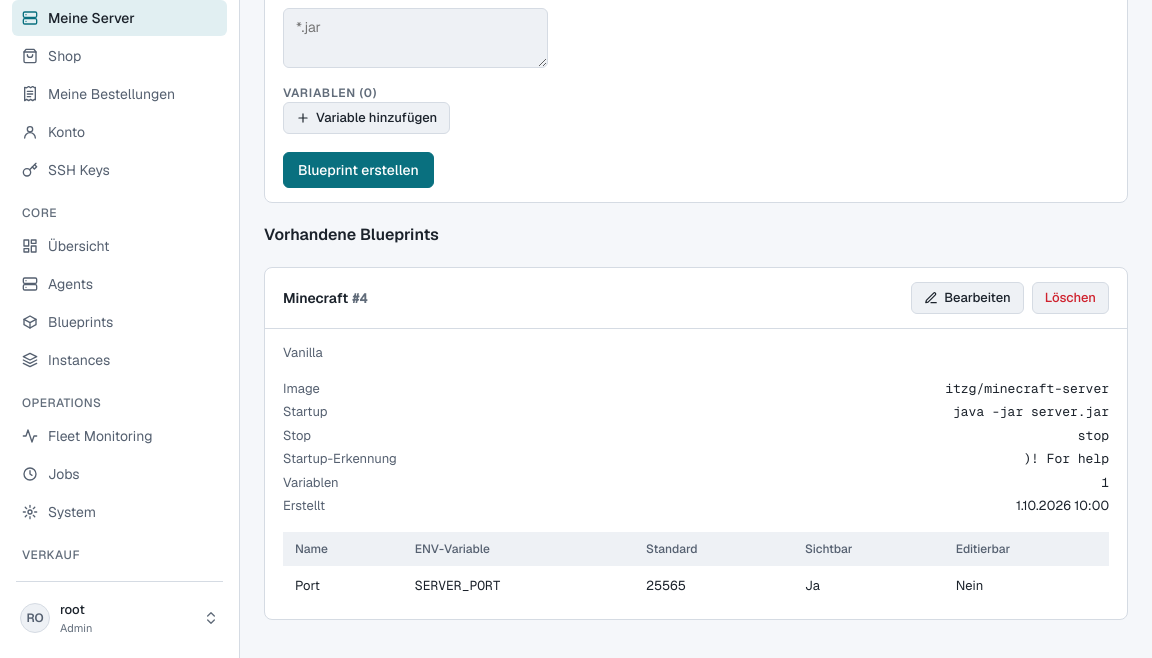
Test case: AdminBlueprintsPage › loescht nach Bestaetigung und zeigt Backend-Fehler als Alert
The width and height of the screenshot is (1152, 658).
(page scrolled)
Click the button "Löschen".
click(1070, 298)  # box [1032,282,1109,314]
(page scrolled)
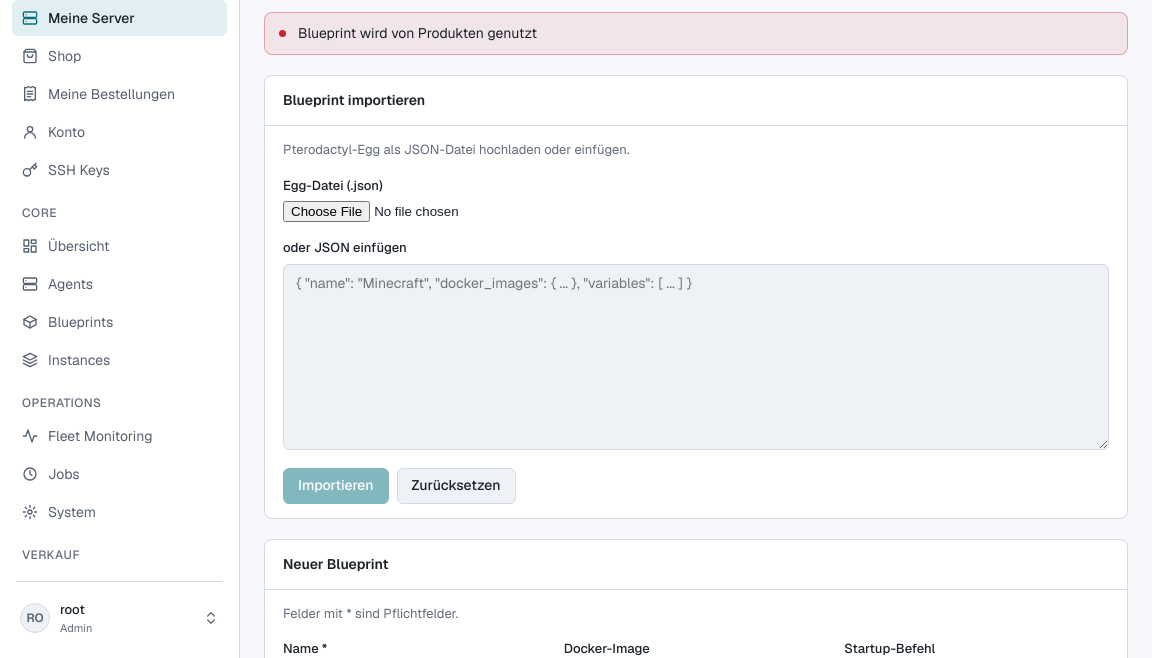
Check: the message shows "von Produkten genutzt", box [298,24,537,42]
